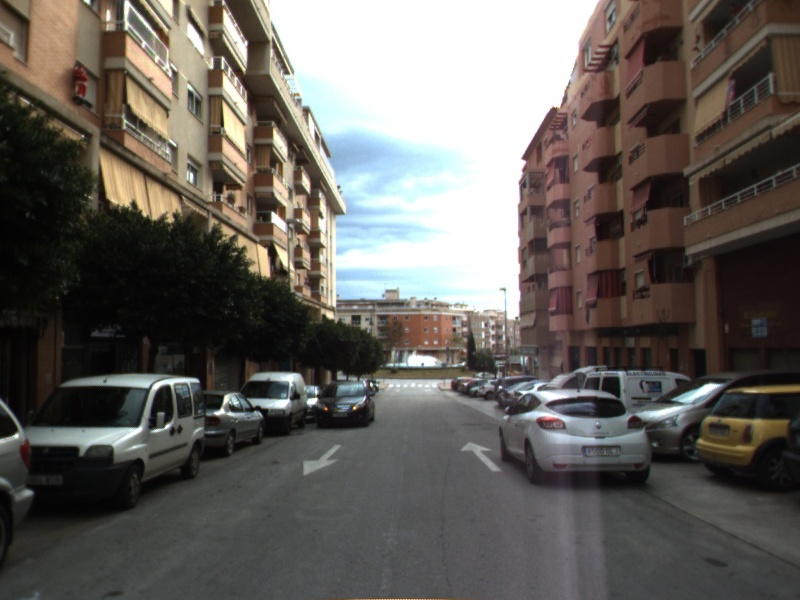STRAIGHT: (459, 439, 504, 473)
